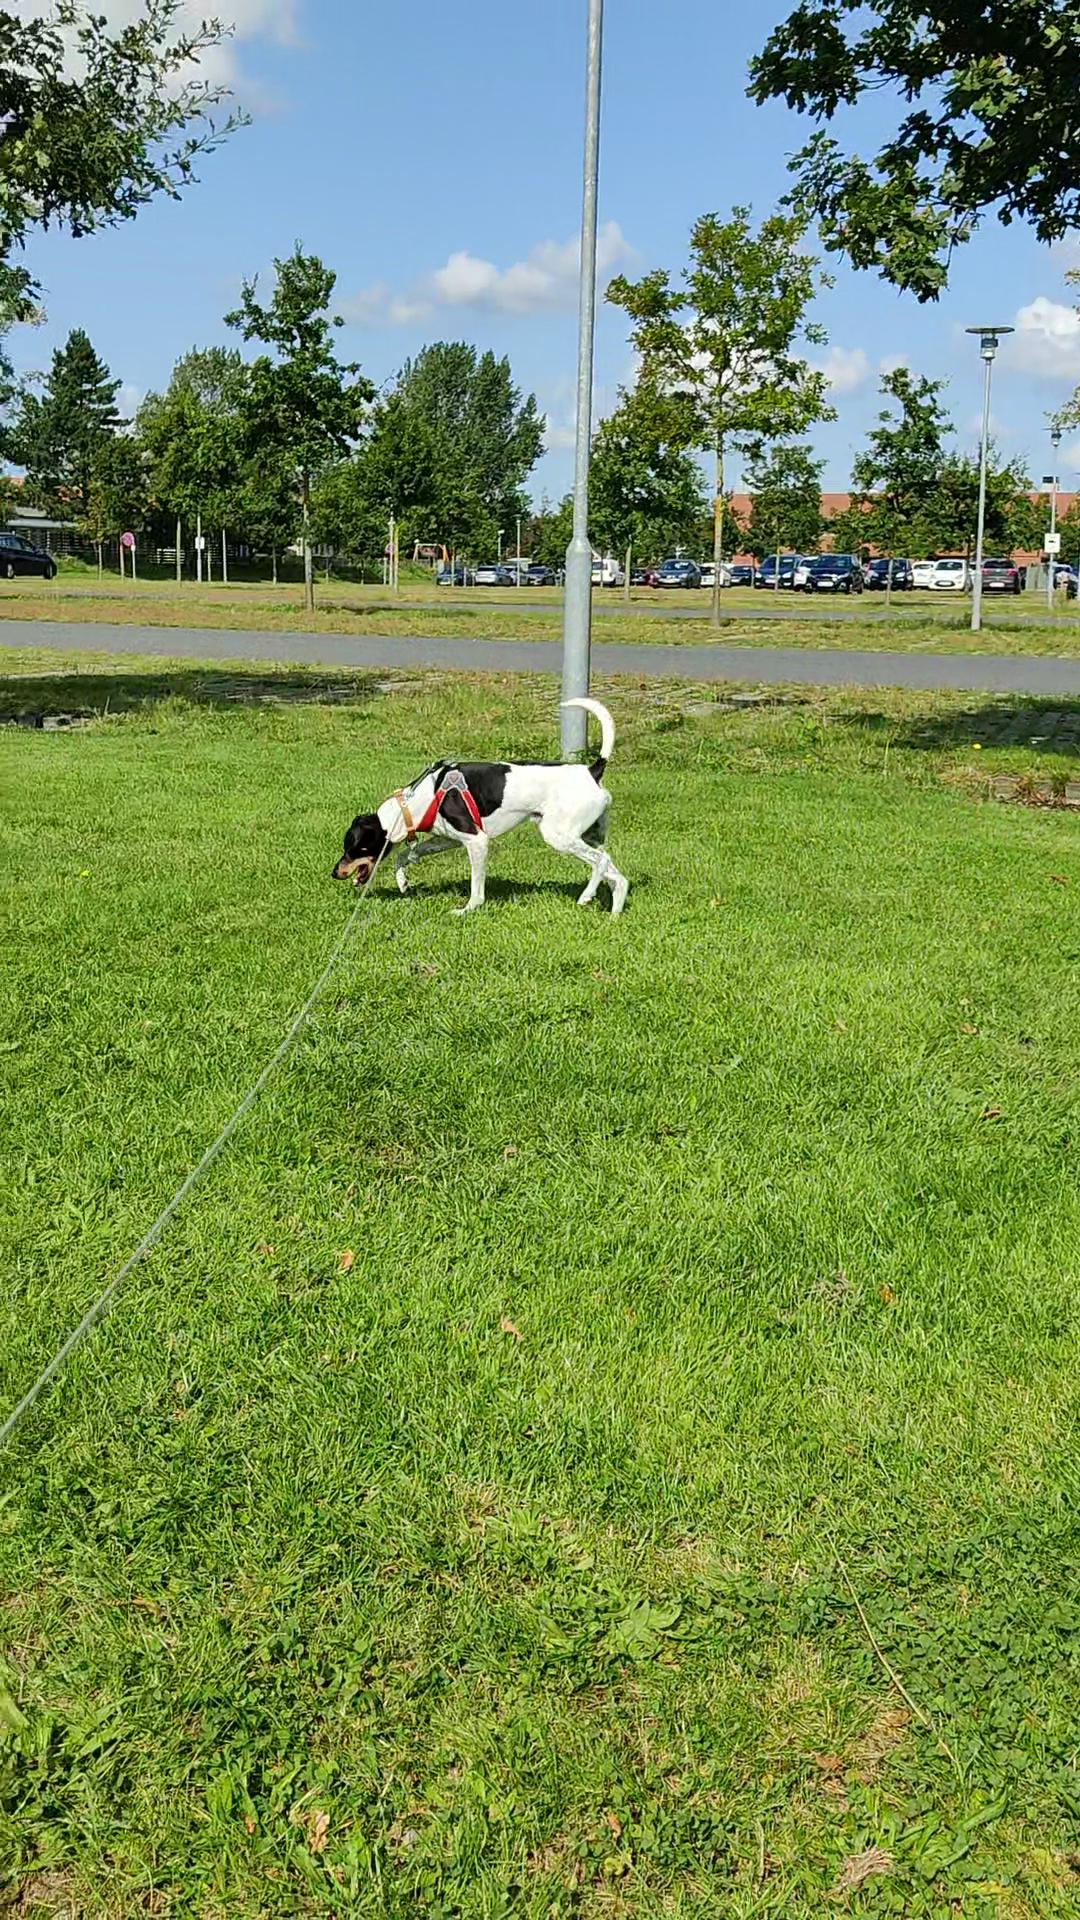Dog: (324, 690, 633, 919)
